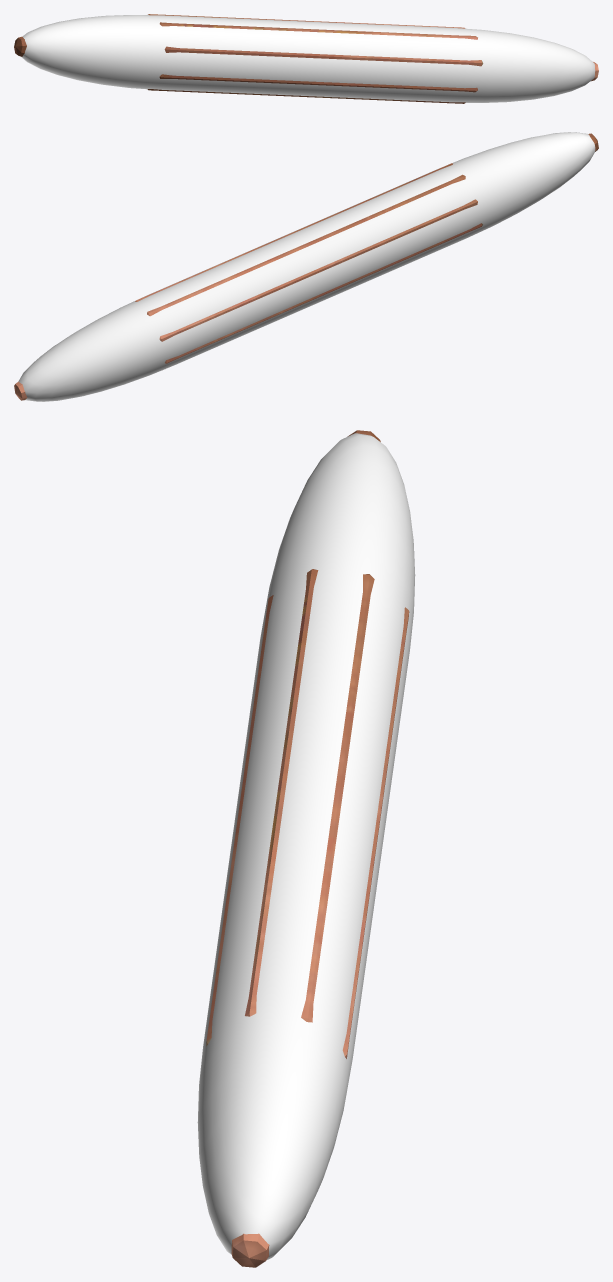
File: RollingPinAnchor.fbx
3 renders of one model, top to bottom at view 1: azimuth 30°, elevation 25°; view 2: azimuth 210°, elevation 25°; view 3: azimuth 270°, elevation 25°, orthographic. The views are drawn at different scales.
Visible parts, largest first — view 1: RollingPin_InteractionPoint, LMAEH_; view 2: RollingPin_InteractionPoint, LMAEH_; view 3: RollingPin_InteractionPoint, LMAEH_.
Boxes of the visible parts, box(x1,y1,x2,y2) form: RollingPin_InteractionPoint: box(21, 15, 595, 102); LMAEH_: box(14, 14, 598, 103); RollingPin_InteractionPoint: box(18, 132, 595, 401); LMAEH_: box(14, 133, 598, 400); RollingPin_InteractionPoint: box(197, 433, 415, 1259); LMAEH_: box(206, 430, 409, 1267).
Bounding box in the file's own units: 71.22 × 20.27 × 12.11.
